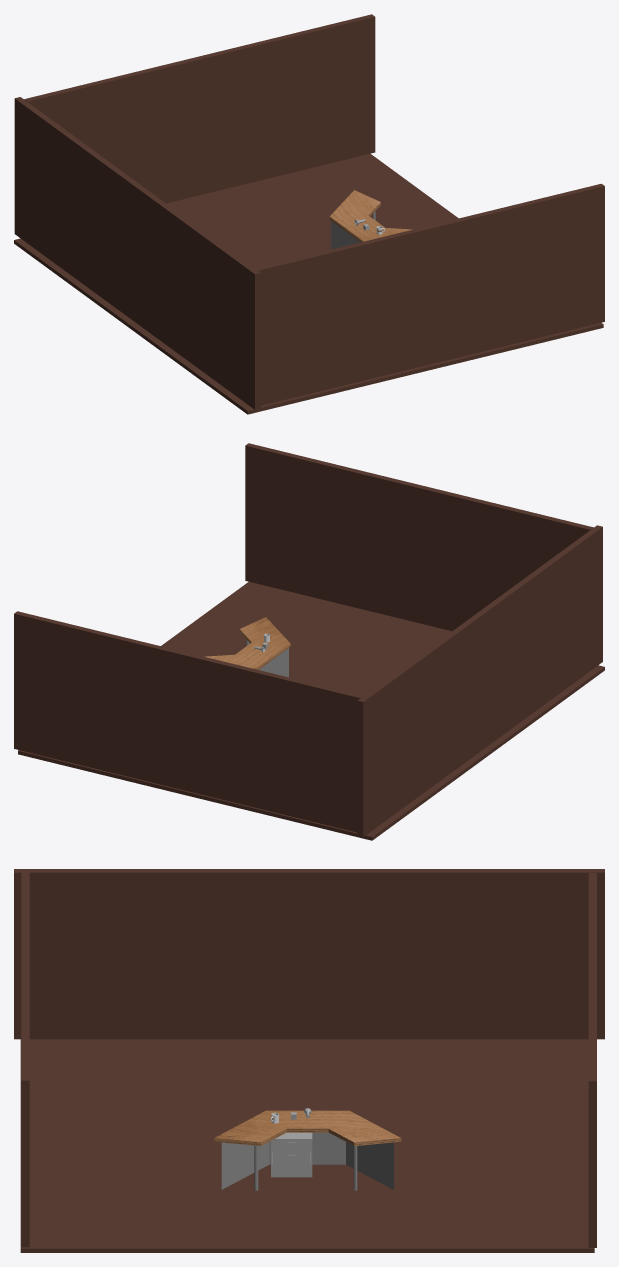
File: Scarygamefbxfile.fbx
3 renders of one model, top to bottom at view 1: azimuth 30°, elevation 25°; view 2: azimuth 150°, elevation 25°; view 3: azimuth 270°, elevation 25°, orthographic. The views are drawn at different scales.
Visible parts, largest first — view 1: pCube1, pCube2, pCube3, floor, desktop; view 2: pCube2, pCube1, pCube3, floor, desktop; view 3: floor, pCube3, deskleg, desktop, pCube1, pCube2, cabnet.
Boxes of the visible parts, x1,y1,x2,y2 form: pCube1: (255,183,604,405); pCube2: (24,14,375,203); pCube3: (14,97,260,409); floor: (14,153,603,414); desktop: (329,190,411,242); pCube2: (14,611,363,832); pCube1: (245,443,594,631); pCube3: (357,525,602,837); floor: (18,581,604,840); desktop: (204,617,290,669); floor: (20,1039,594,1252); pCube3: (14,869,604,1039); deskleg: (221,1132,393,1189); desktop: (214,1110,401,1146); pCube1: (21,872,29,1247); pCube2: (588,873,596,1247); cabnet: (271,1132,312,1177).
Bounding box in the file's own units: 91.92 × 34.55 × 107.
Materials: 6 (1 with a texture image).
